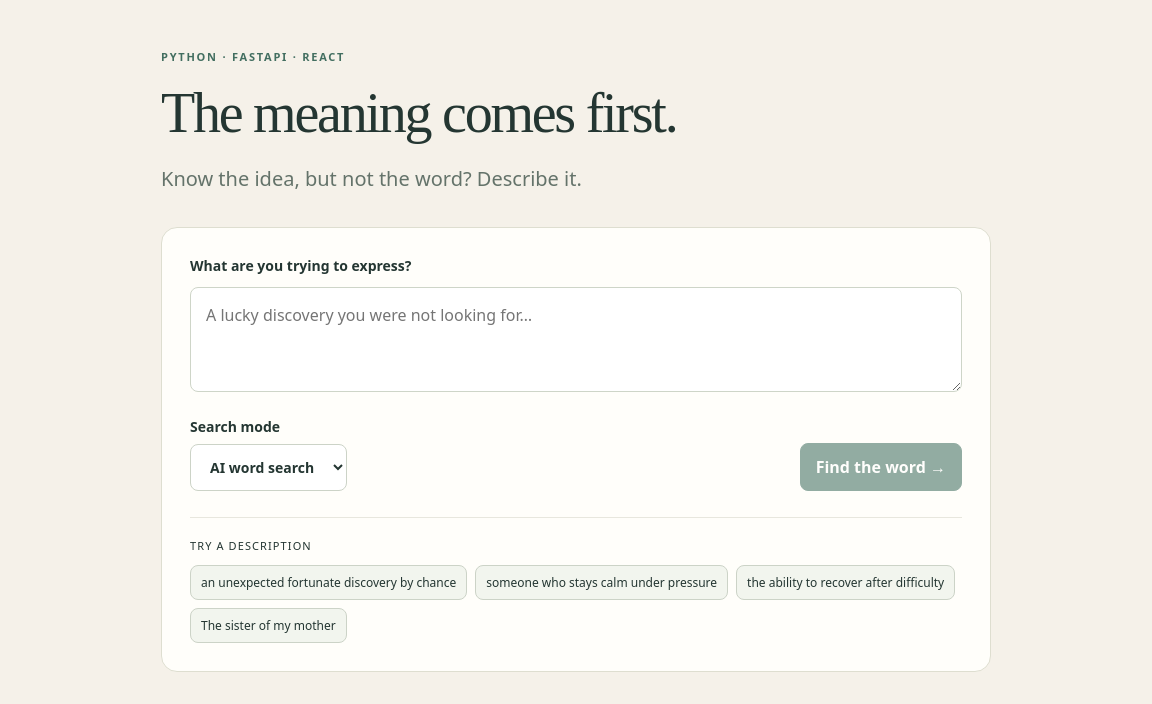
it: renders candidate definitions after search
Select "Local catalog" in the dropdown labelled "Search mode" at coordinates (268, 468), box [190,444,347,491]
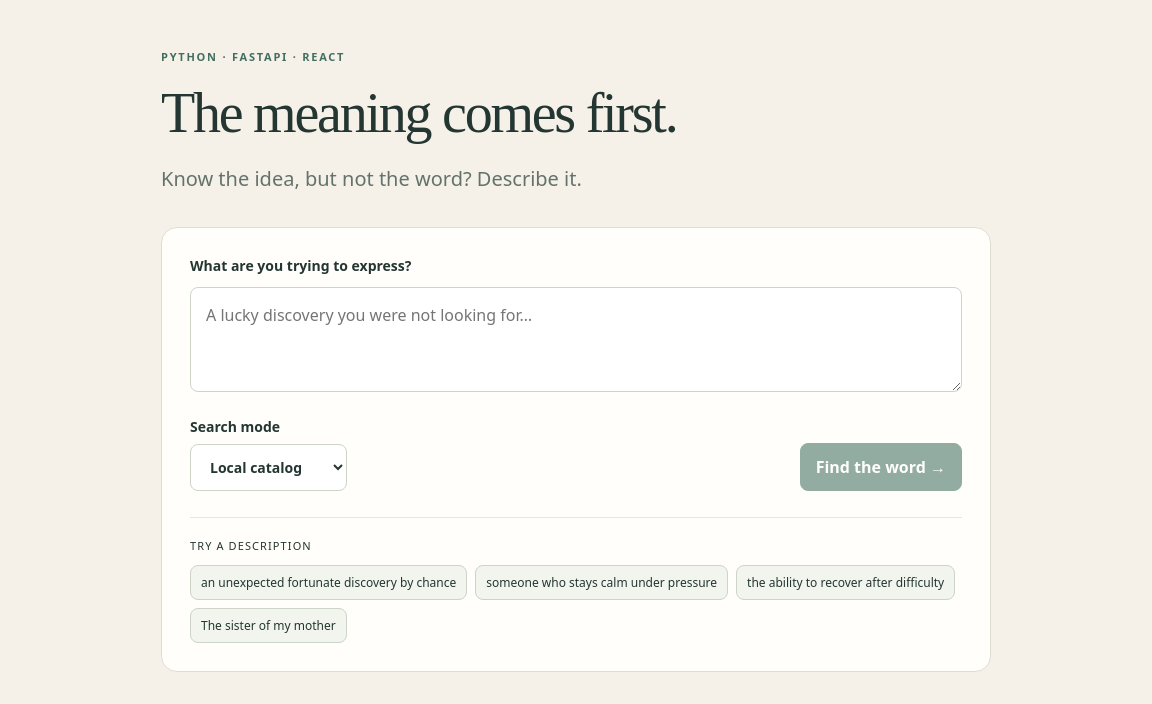
Type "fortunate discovery" into the text box labelled "What are you trying to express?".
click(576, 340); type("fortunate discovery")  # box [190,287,962,392]
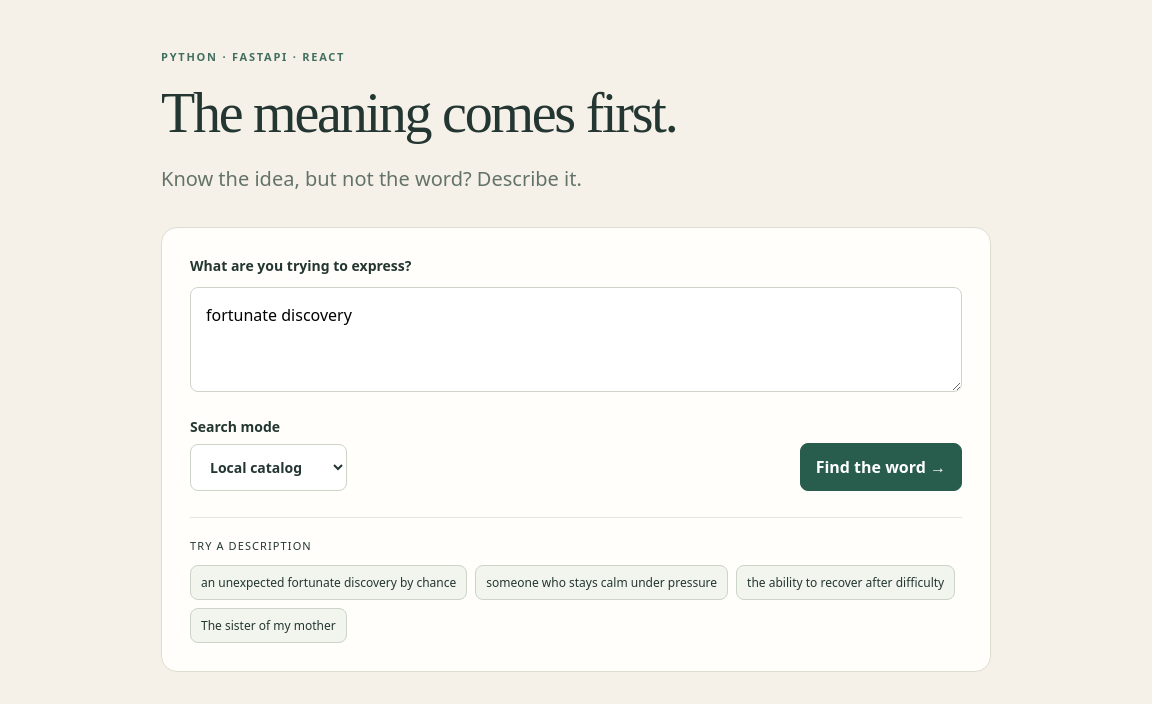
Click the button "Find the word →".
click(881, 467)  # box [800,443,962,491]
(page scrolled)
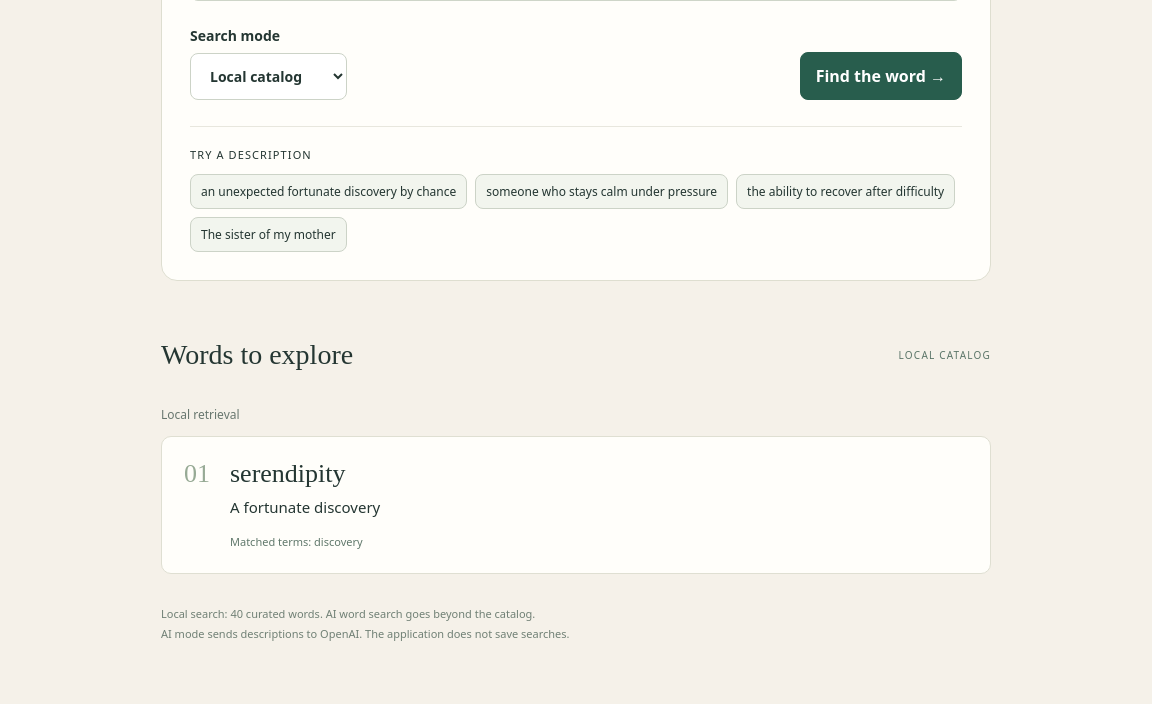
Result: the heading "serendipity" is shown at [230,460,346,488]
